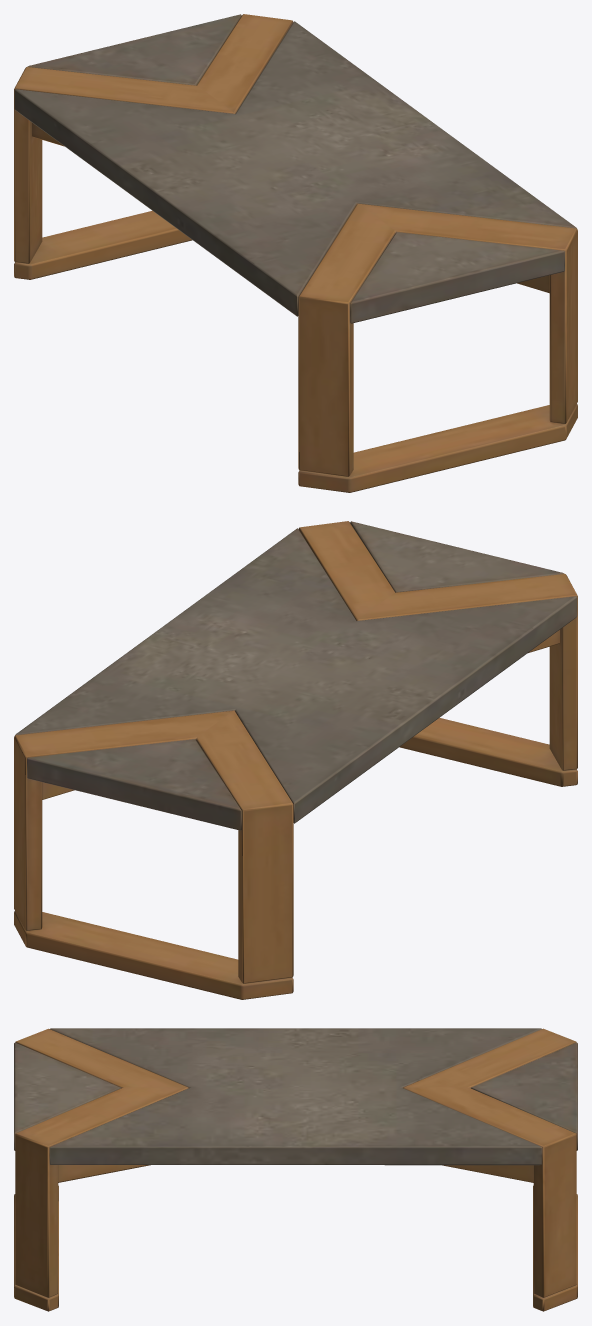
Rendered from modern_coffee_table_01.glb.
The picture shows the model from 3 angles, top to bottom: view 1: azimuth 30°, elevation 25°; view 2: azimuth 150°, elevation 25°; view 3: azimuth 270°, elevation 25°; orthographic projection. The views are drawn at different scales.
Parts seen in each view (by area): view 1: modern_coffee_table_01; view 2: modern_coffee_table_01; view 3: modern_coffee_table_01.
Part boxes in pixels (x1,y1,x2,y2): modern_coffee_table_01: (14, 14, 577, 492); modern_coffee_table_01: (14, 521, 577, 999); modern_coffee_table_01: (14, 1028, 577, 1311).
Size of the model in its own units: 0.5999 by 0.39 by 1.2.
Materials: 1 (1 with a texture image).
